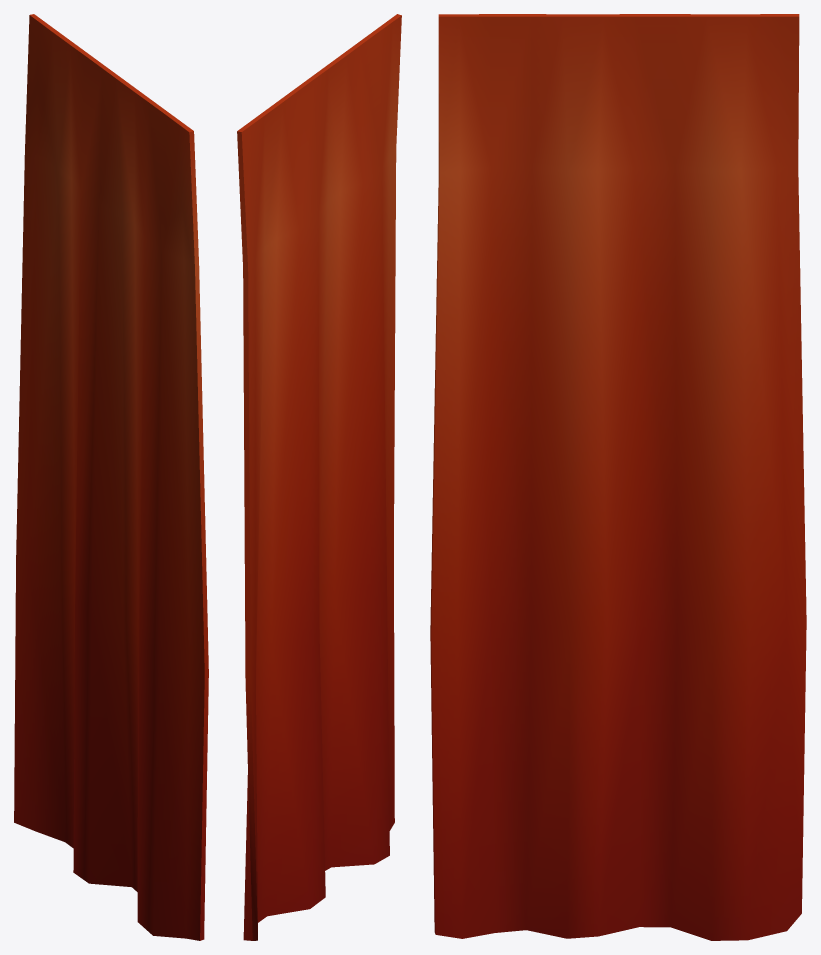
Rendered from TSP_Curtain_01D.fbx.
3 renders of one model, left to right at view 1: azimuth 30°, elevation 25°; view 2: azimuth 150°, elevation 25°; view 3: azimuth 270°, elevation 25°, orthographic. The views are drawn at different scales.
Visible parts, largest first — view 1: TSP_Curtain_01D; view 2: TSP_Curtain_01D; view 3: TSP_Curtain_01D.
Boxes of the visible parts, left/top/right/bottom form: TSP_Curtain_01D: left=14, top=14, right=208, bottom=940; TSP_Curtain_01D: left=237, top=14, right=401, bottom=940; TSP_Curtain_01D: left=430, top=14, right=806, bottom=940.
Size of the model in its own units: 0.1058 by 2.52 by 0.9292.
